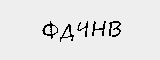В: (108, 18, 120, 39)
Д: (57, 22, 75, 41)
Н: (91, 17, 105, 39)
Ф: (41, 19, 59, 44)
Ч: (74, 17, 88, 39)
